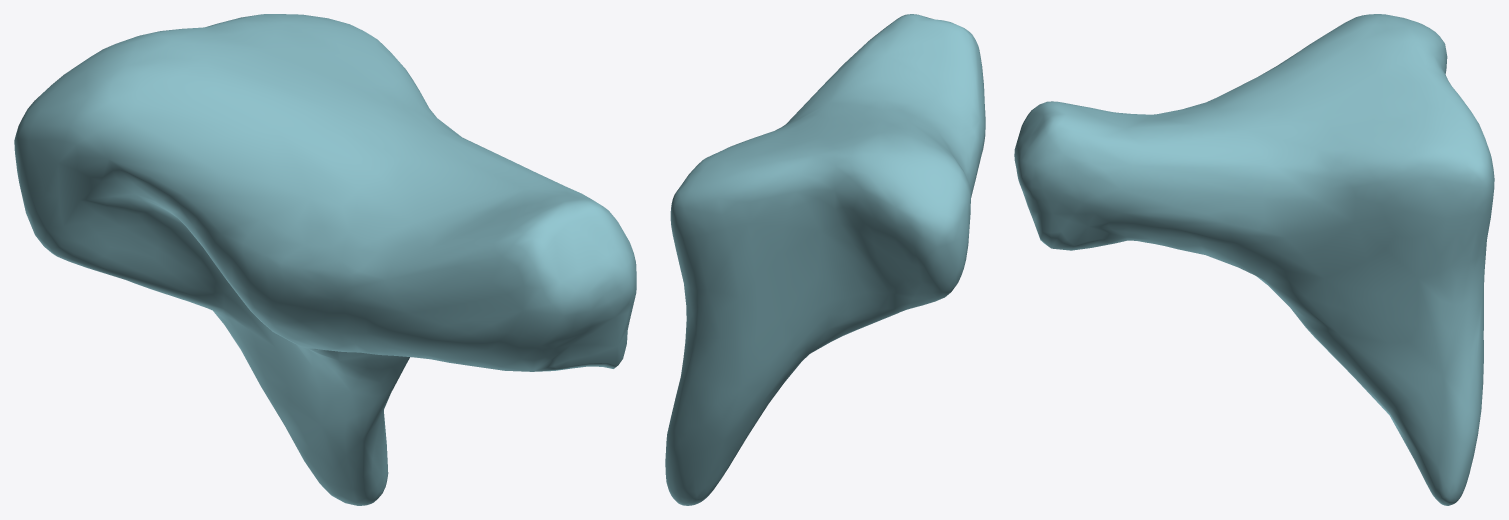
3 views of the same model, side by side, from view 1: azimuth 30°, elevation 25°; view 2: azimuth 150°, elevation 25°; view 3: azimuth 270°, elevation 25° (orthographic). The views are drawn at different scales.
Visible parts, largest first — view 1: 右侧杓状软骨; view 2: 右侧杓状软骨; view 3: 右侧杓状软骨.
Part boxes in pixels (<box>): 右侧杓状软骨: <box>14,14,636,505</box>; 右侧杓状软骨: <box>665,14,985,505</box>; 右侧杓状软骨: <box>1014,14,1494,505</box>.
Size of the model in its own units: 0.00802 by 0.0107 by 0.0119.
